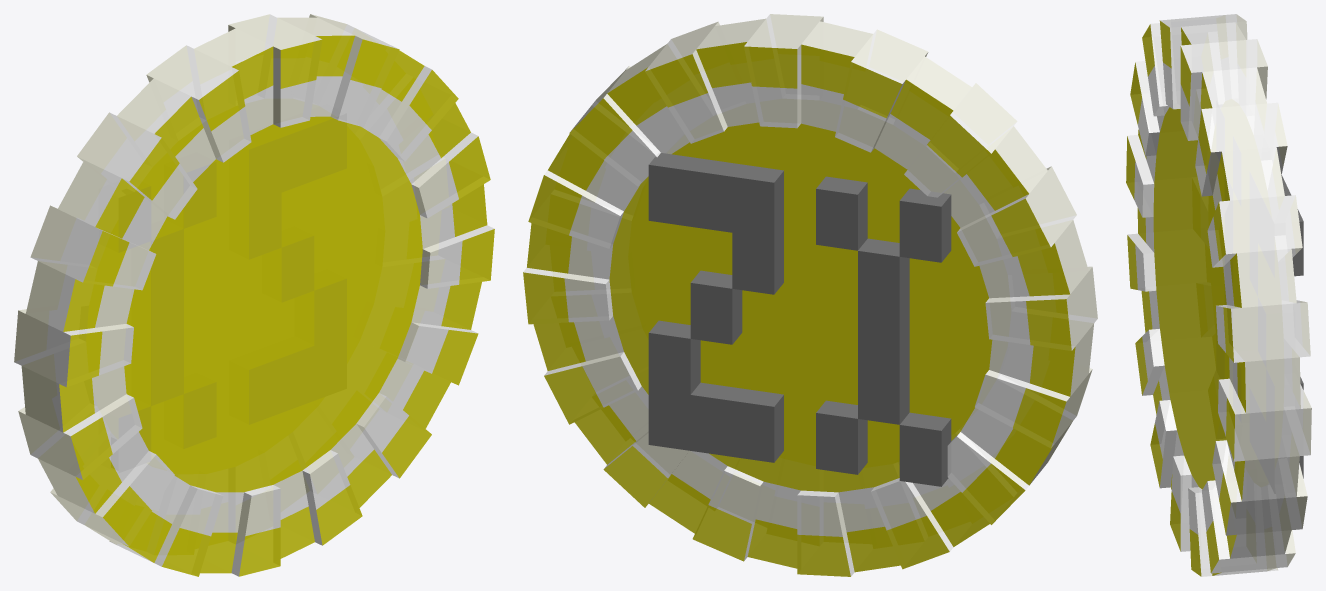
File: coinYellow.fbx
3 renders of one model, left to right at view 1: azimuth 30°, elevation 25°; view 2: azimuth 150°, elevation 25°; view 3: azimuth 270°, elevation 25°, orthographic. The views are drawn at different scales.
Parts seen in each view (by area): view 1: Cylinder; view 2: Cylinder; view 3: Cylinder.
Part boxes in pixels (left/top/right/bottom): Cylinder: left=14, top=14, right=494, bottom=576; Cylinder: left=523, top=14, right=1097, bottom=576; Cylinder: left=1126, top=14, right=1311, bottom=576.
Size of the model in its own units: 121 by 120 by 39.89.
